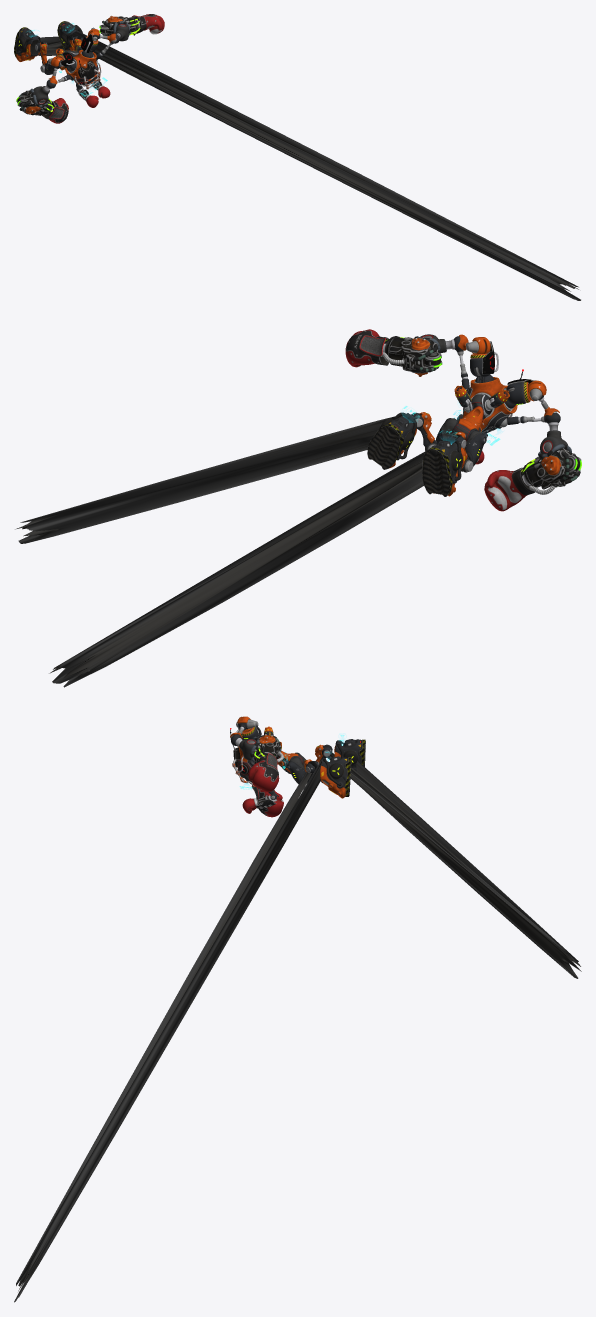
Rendered from reaper_whirlwind.glb.
The picture shows the model from 3 angles, top to bottom: view 1: azimuth 30°, elevation 25°; view 2: azimuth 150°, elevation 25°; view 3: azimuth 270°, elevation 25°; orthographic projection. The views are drawn at different scales.
Parts seen in each view (by area): view 1: Blades, Core; view 2: Blades, Core; view 3: Blades, Core.
Part boxes in pixels (x1,y1,x2,y2): Blades: (16,28,580,300); Core: (14,14,164,123); Blades: (15,412,486,687); Core: (345,329,581,511); Blades: (14,740,581,1302); Core: (230,716,365,817).
Bounding box in the file's own units: 2.69 × 1.65 × 2.38.
10 materials, 10 textured.
